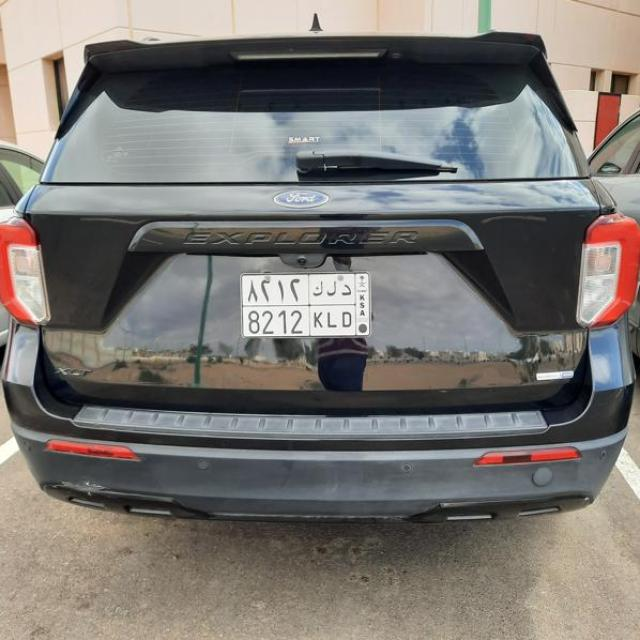license_plate: (242, 274, 371, 335)
